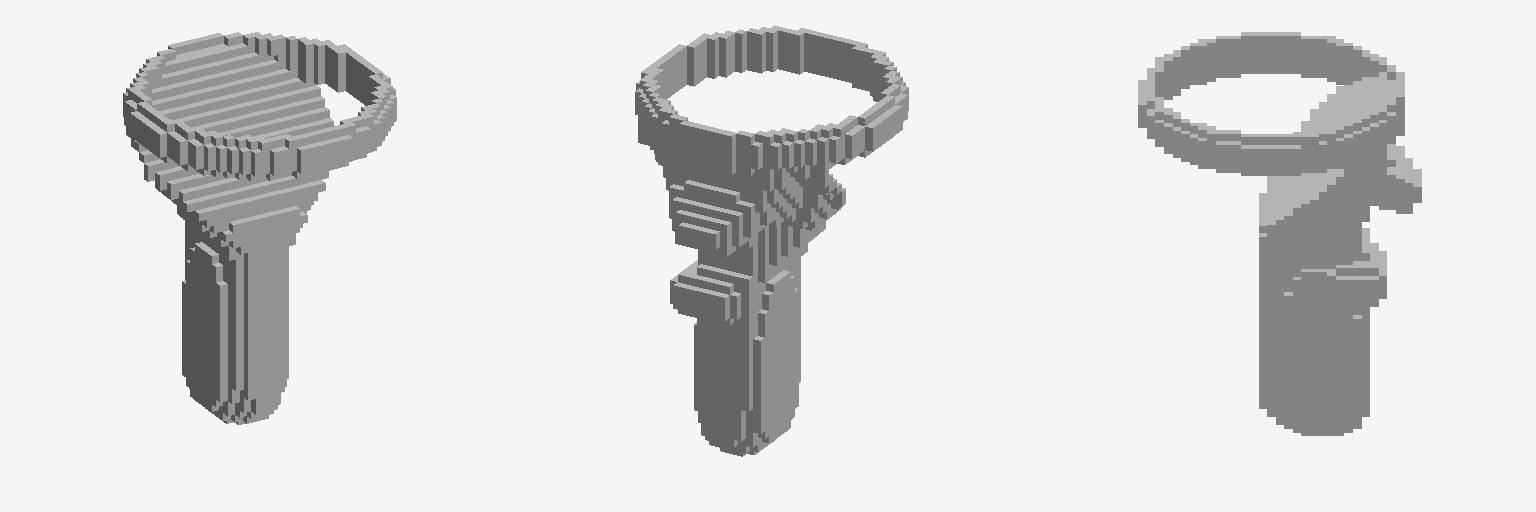
File: Oculus Quest2 Controller.obj
The picture shows the model from 3 angles: view 1: azimuth 30°, elevation 25°; view 2: azimuth 150°, elevation 25°; view 3: azimuth 270°, elevation 25°; orthographic projection.
Visible parts, largest first — view 1: object 1; view 2: object 1; view 3: object 1.
Boxes of the visible parts, x1=… form: object 1: x1=123, y1=32, x2=396, y2=424; object 1: x1=635, y1=25, x2=908, y2=456; object 1: x1=1138, y1=32, x2=1421, y2=435.
Bounding box in the file's own units: 3.1 × 4.4 × 3.3.